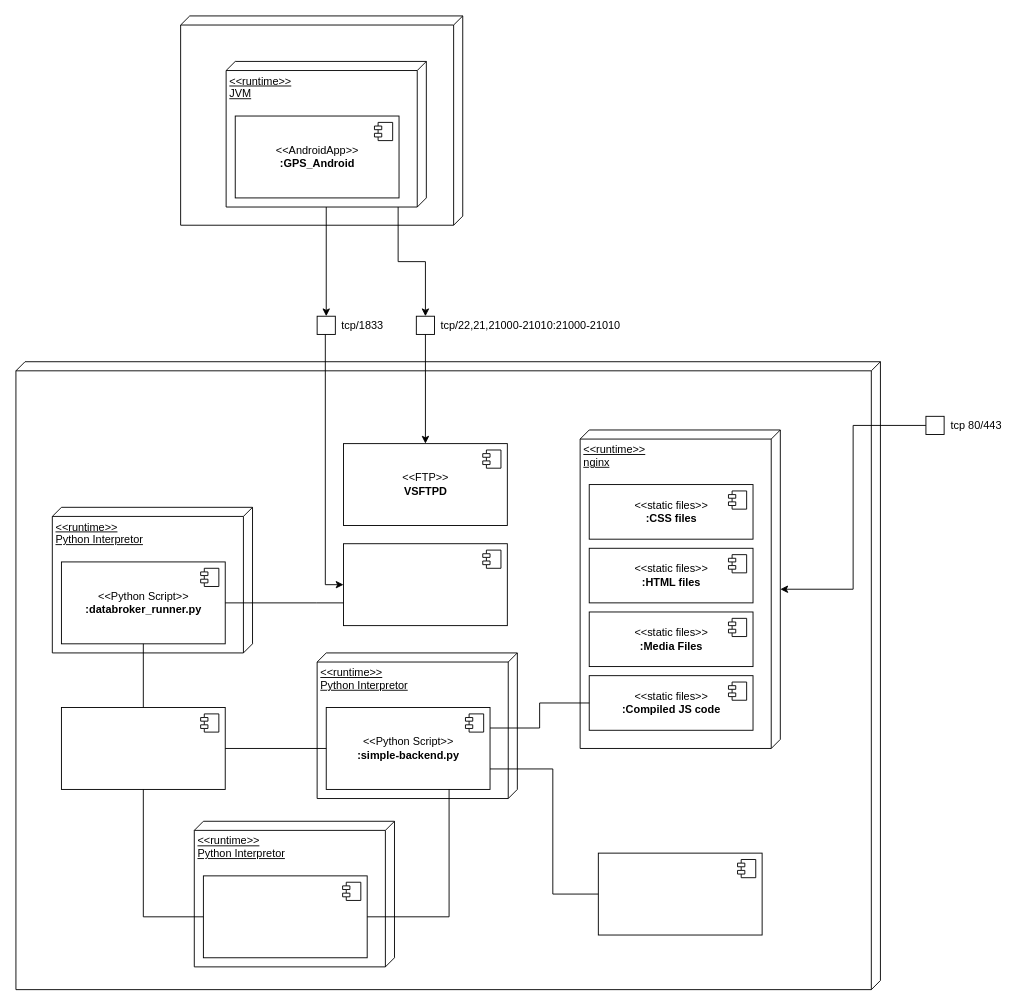
This 1024x1006 diagram has some shape labels left out. The shapes that lost their labels are listed below. From the top down, each one's box as (x1, y1, x2, y2) in pixels, then its label:
(180, 15, 463, 225): <<device>> Android
(343, 543, 507, 626): <<Broker>> "Mosquitto MQTT Broker
(15, 361, 880, 990): <<device>> Linux running Node
(61, 707, 225, 789): <<NoSQL>> :MongoDB
(597, 852, 762, 935): <<Queue>> :RabbitMQ
(202, 875, 367, 958): <<Celery Worker>> :workers/tasks.py
